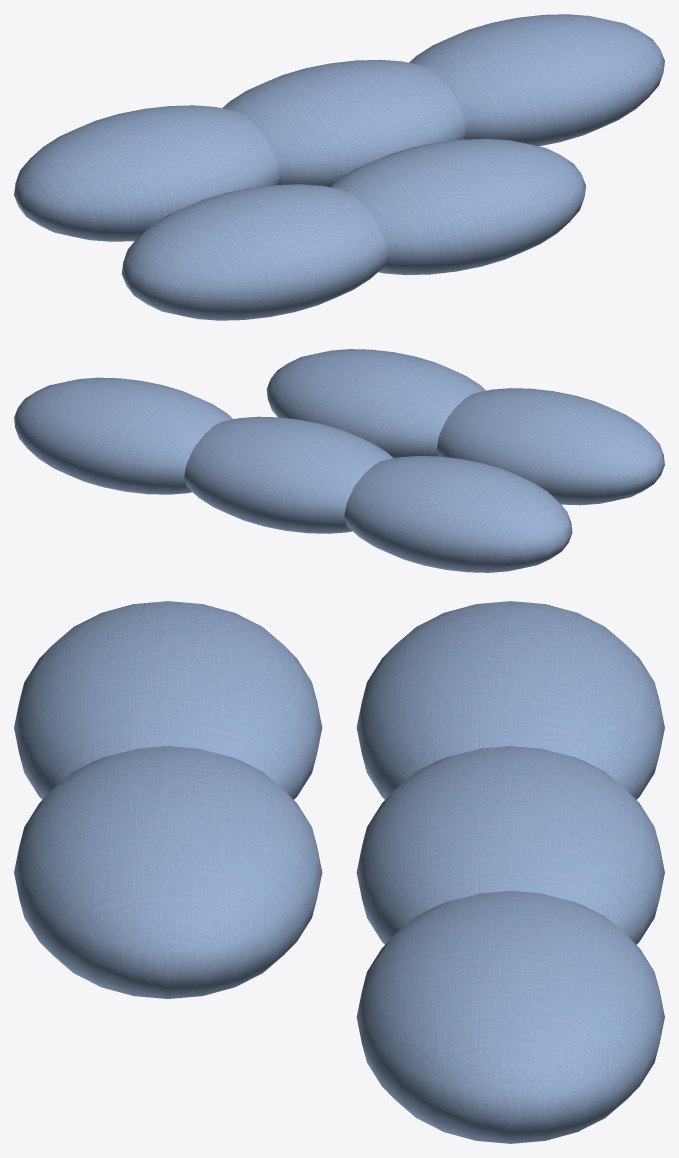
File: pao.glb
The picture shows the model from 3 angles, top to bottom: view 1: azimuth 30°, elevation 25°; view 2: azimuth 150°, elevation 25°; view 3: azimuth 270°, elevation 25°; orthographic projection. The views are drawn at different scales.
Visible parts, largest first — view 1: Pão.003, Pão, Pão.004, Pão.002, Pão.001; view 2: Pão, Pão.003, Pão.002, Pão.001, Pão.004; view 3: Pão.004, Pão.002, Pão, Pão.003, Pão.001.
Part boxes in pixels (x1,y1,x2,y2): Pão.003: (122,184,387,320); Pão: (14,105,279,241); Pão.004: (330,138,585,275); Pão.002: (409,14,664,146); Pão.001: (222,59,466,186); Pão: (344,456,572,572); Pão.003: (437,388,664,505); Pão.002: (14,377,233,494); Pão.001: (184,416,393,533); Pão.004: (266,349,485,458); Pão.004: (14,746,322,998); Pão.002: (356,890,664,1143); Pão: (356,601,664,799); Pão.003: (14,601,322,799); Pão.001: (356,746,664,944).
Size of the model in its own units: 1.7 by 0.25 by 0.95.
1 material, 1 textured.
